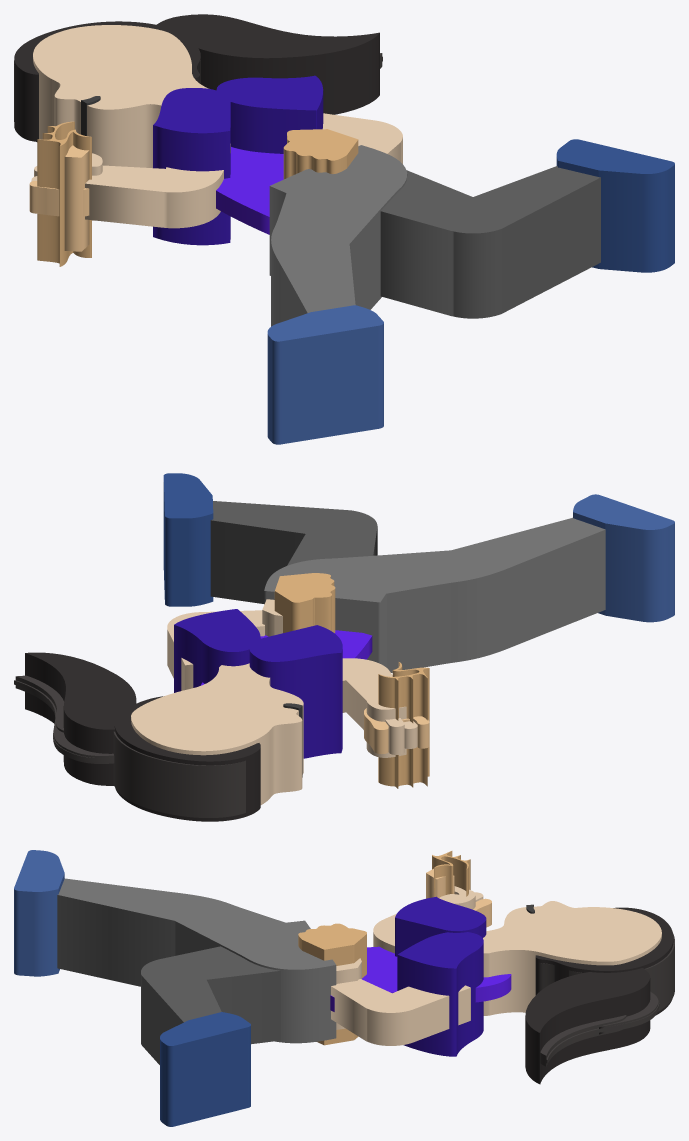
File: emoji_u1f3c3_1f3fb_200d_2640.glb
The picture shows the model from 3 angles, top to bottom: view 1: azimuth 30°, elevation 25°; view 2: azimuth 150°, elevation 25°; view 3: azimuth 270°, elevation 25°; orthographic projection. The views are drawn at different scales.
Parts seen in each view (by area): view 1: emoji_u1f3c3_1f3fb_200d_2640; view 2: emoji_u1f3c3_1f3fb_200d_2640; view 3: emoji_u1f3c3_1f3fb_200d_2640.
Boxes of the visible parts, x1,y1,x2,y2 form: emoji_u1f3c3_1f3fb_200d_2640: (14, 14, 674, 444); emoji_u1f3c3_1f3fb_200d_2640: (14, 473, 674, 821); emoji_u1f3c3_1f3fb_200d_2640: (14, 850, 674, 1126).
Size of the model in its own units: 0.0227 by 0.0054 by 0.0326.
